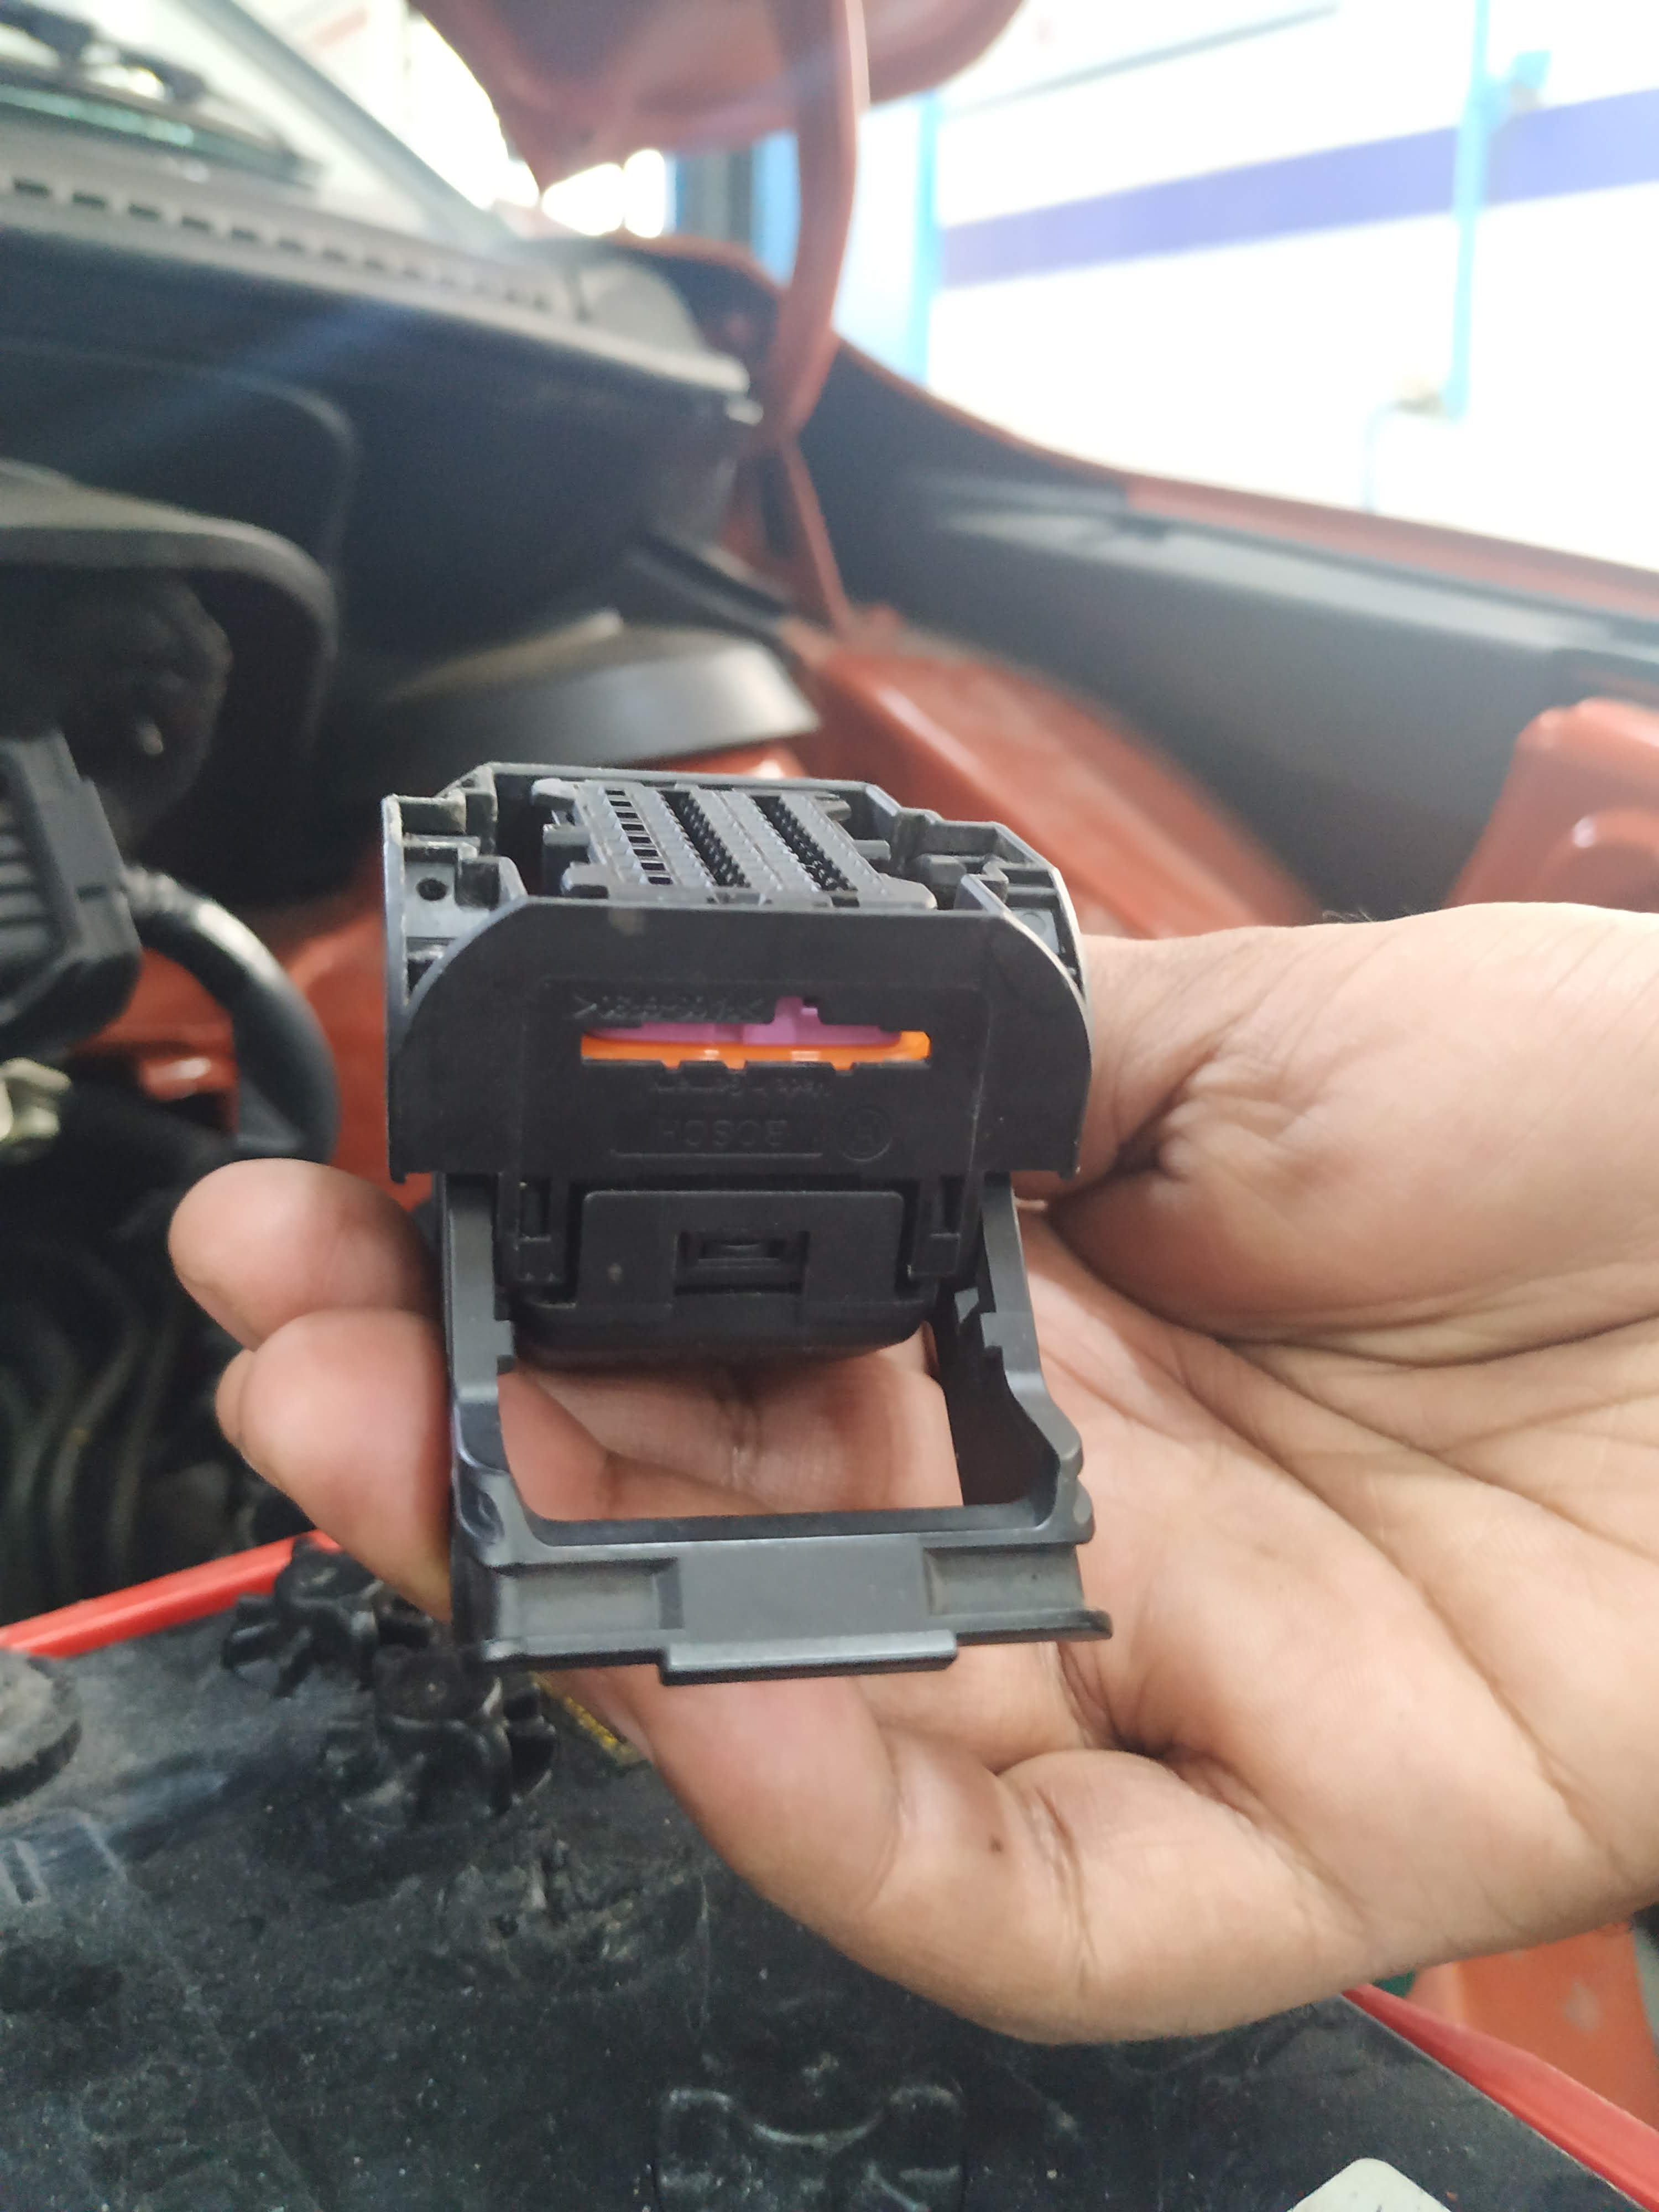connector: (321, 707, 1195, 1696)
